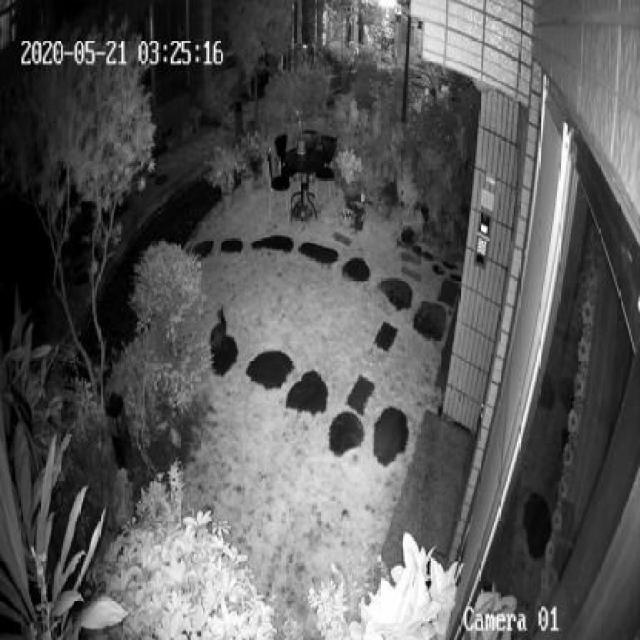animals: (208, 292, 230, 356)
